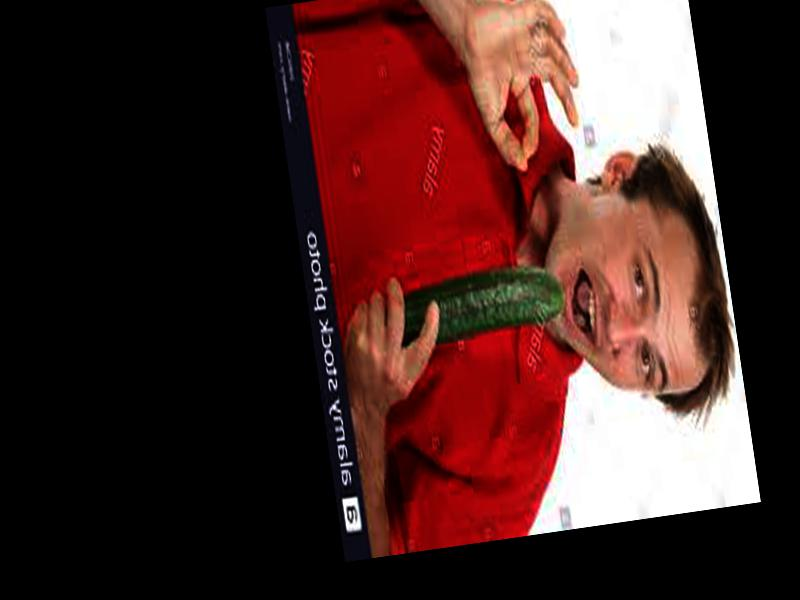Cucumber: (398, 268, 565, 342)
